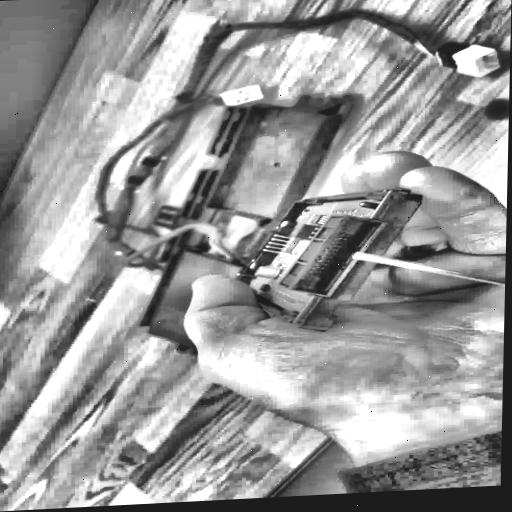high_volt_cable: (90, 0, 510, 283)
